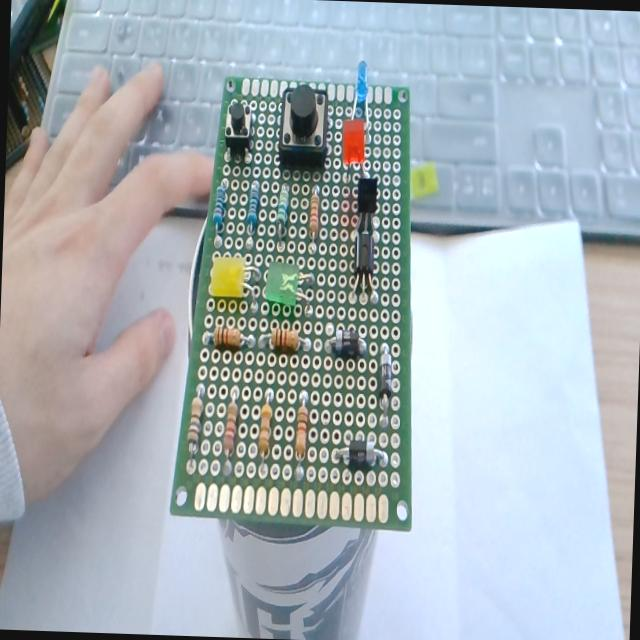diode: (334, 436, 386, 470), (328, 327, 366, 358), (379, 344, 394, 398)
led: (261, 259, 315, 313), (346, 61, 372, 161), (208, 252, 260, 299), (340, 116, 366, 168)
resistor: (222, 387, 240, 474), (205, 320, 258, 348), (294, 390, 310, 478), (186, 388, 204, 449), (258, 394, 273, 456), (268, 327, 304, 352), (212, 181, 227, 232), (276, 183, 290, 235), (247, 178, 260, 230), (308, 188, 320, 235)
switch: (277, 83, 329, 166), (223, 98, 255, 156)
transistor: (347, 174, 385, 232), (352, 220, 376, 298)
